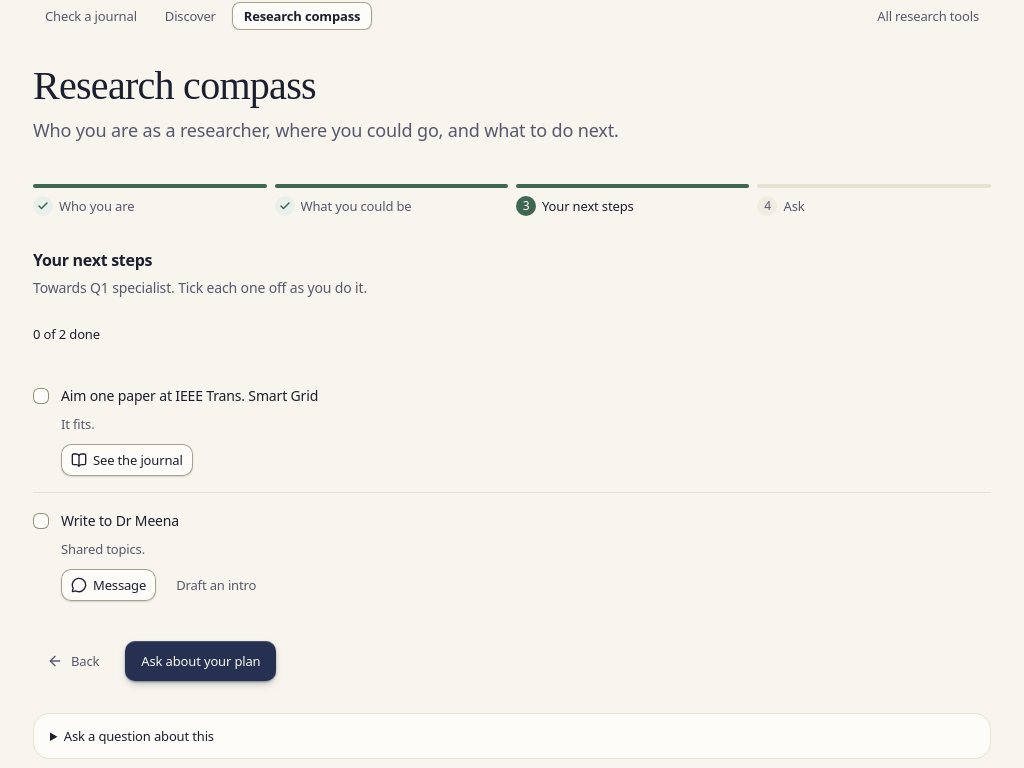
Test: Research compass › resumes at the plan, and ticking an action saves it and moves the count
Check: the text "0 of 2 done" is shown, box [33,325,100,343]
Click the checkbox named "Done: Aim one paper" at (41, 396), box [33,388,49,404]
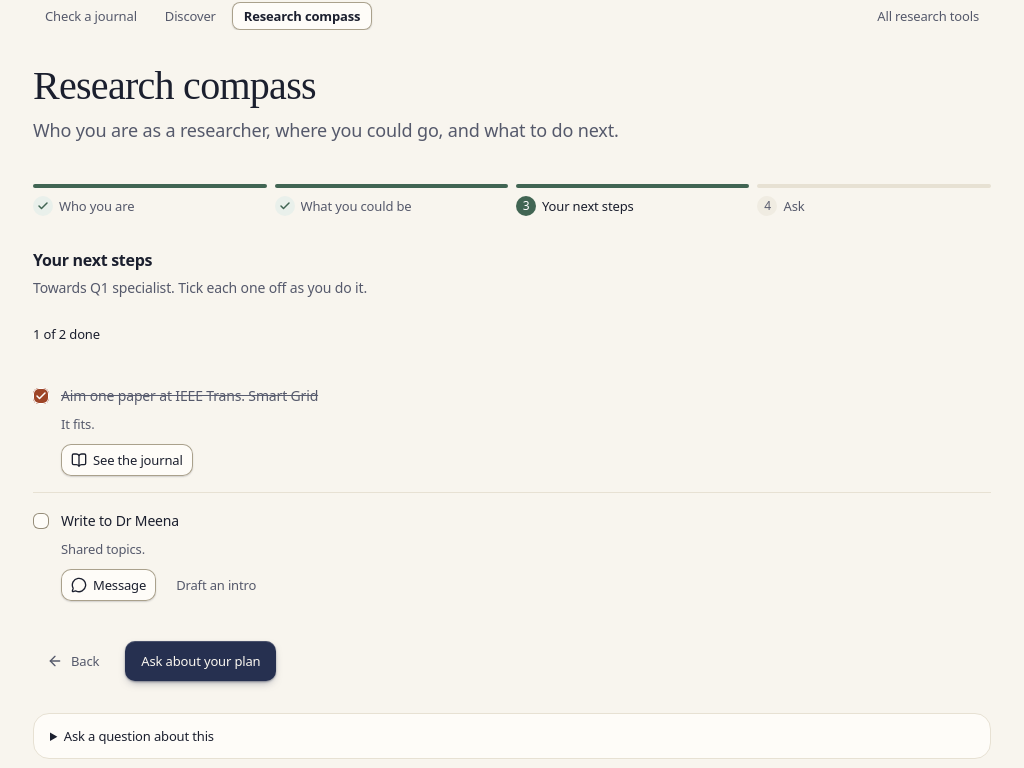
Check: the text "1 of 2 done" is shown, box [33,325,100,343]
